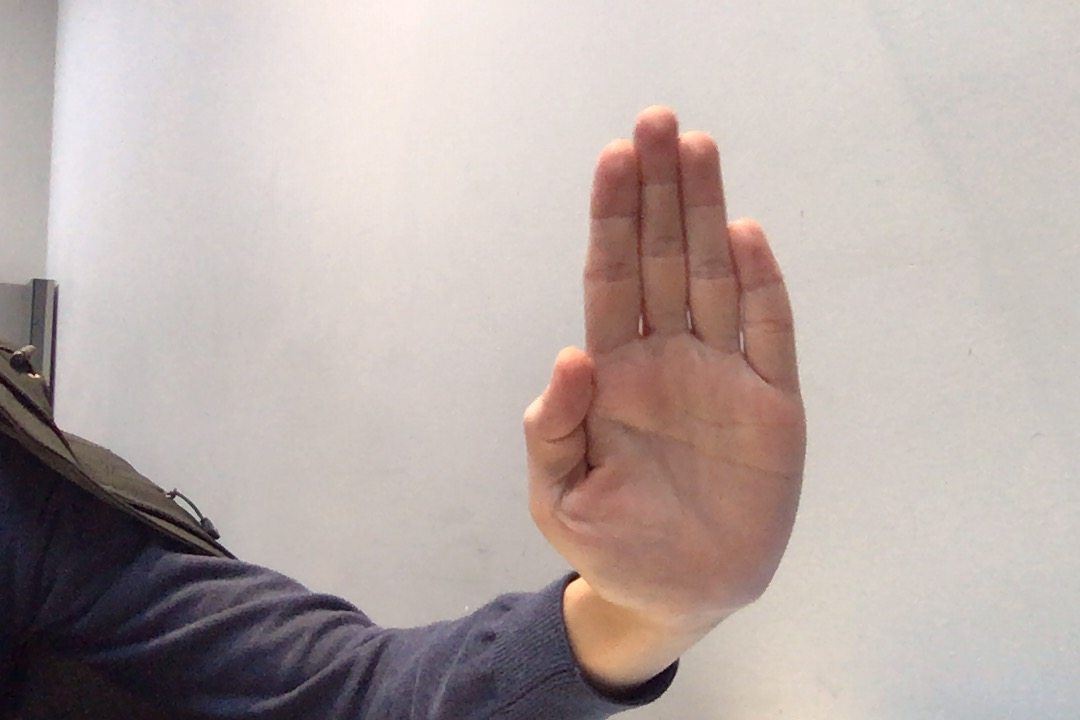palmhand: (498, 92, 836, 631)
